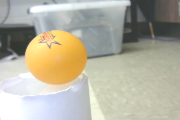PingPongBall: (26, 30, 87, 85)
